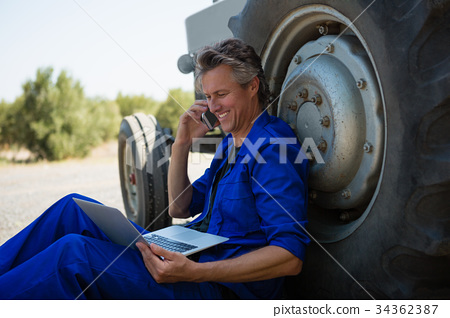phone: (197, 102, 220, 134)
talk: (182, 79, 248, 148)
